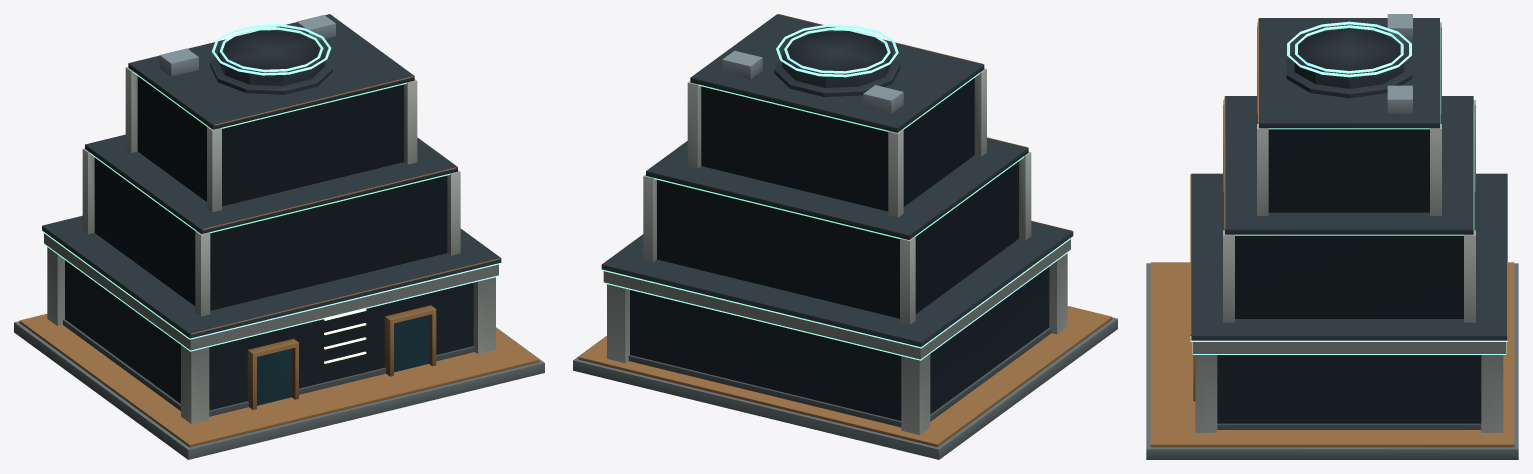
Rendered from memory-archive.lod2.glb.
3 renders of one model, left to right at view 1: azimuth 30°, elevation 25°; view 2: azimuth 150°, elevation 25°; view 3: azimuth 270°, elevation 25°, orthographic. The views are drawn at different scales.
Visible parts, largest first — view 1: structure, lobby; view 2: structure, lobby; view 3: structure, lobby.
Part boxes in pixels (<box>): structure: <box>14,14,544,459</box>; lobby: <box>65,260,473,410</box>; structure: <box>573,14,1117,459</box>; lobby: <box>630,267,1049,420</box>; structure: <box>1146,14,1518,459</box>; lobby: <box>1217,355,1481,423</box>.
Size of the model in its own units: 26 by 20.79 by 22.
